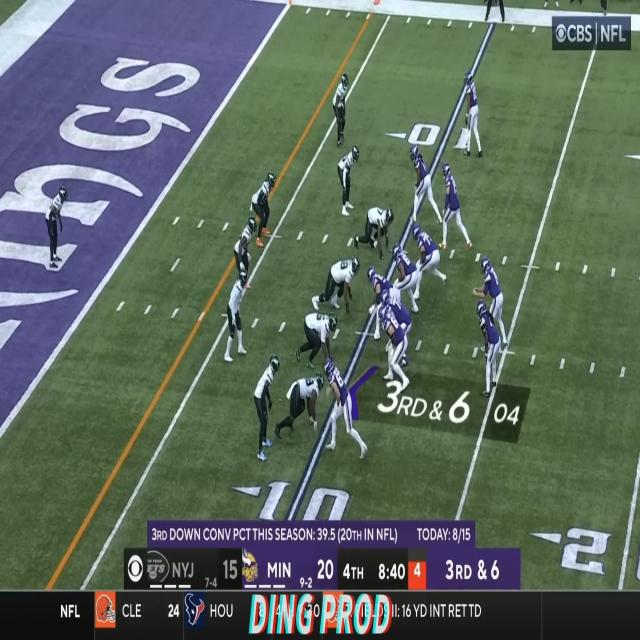players: (322, 361, 368, 462), (437, 166, 474, 256), (278, 374, 328, 436), (380, 299, 412, 395), (478, 256, 508, 353), (222, 264, 251, 364), (254, 354, 281, 460), (476, 303, 502, 400), (298, 307, 338, 370), (316, 260, 359, 318), (353, 206, 396, 261), (390, 241, 422, 312), (42, 187, 69, 271), (408, 148, 436, 229), (379, 291, 413, 348), (253, 169, 277, 249), (415, 226, 446, 286), (336, 142, 361, 216), (463, 77, 482, 159), (234, 218, 256, 288), (330, 75, 350, 152), (370, 266, 397, 322)
